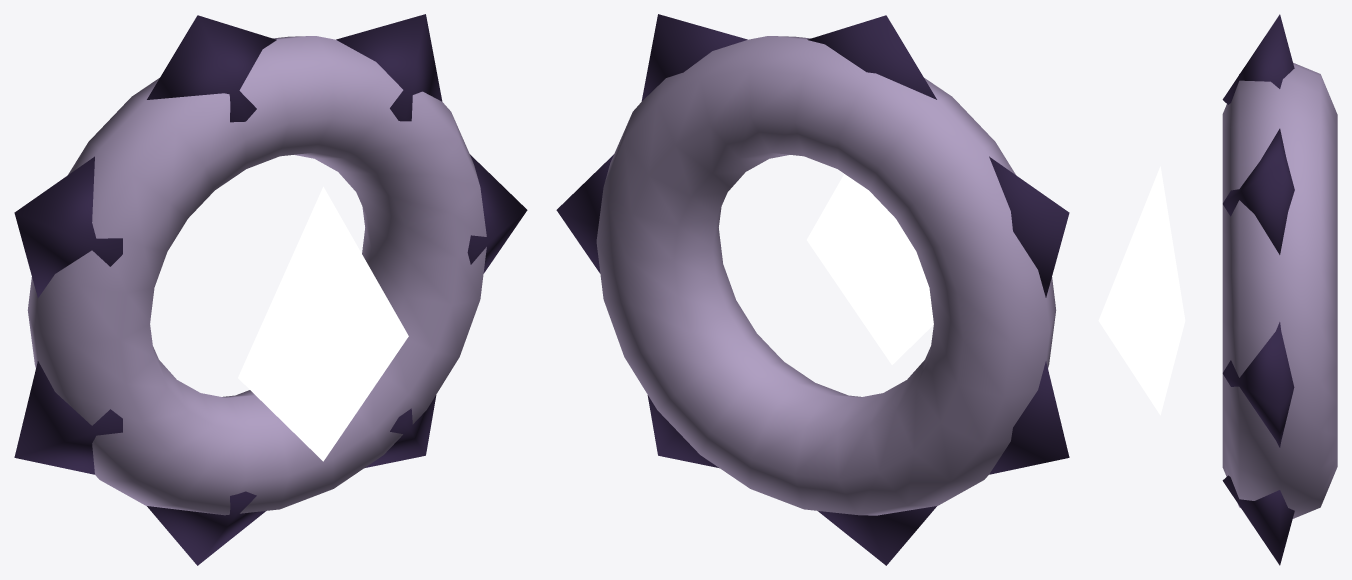
File: boss_wailing_mistress_accessory_1.glb
3 renders of one model, left to right at view 1: azimuth 30°, elevation 25°; view 2: azimuth 150°, elevation 25°; view 3: azimuth 270°, elevation 25°, orthographic. The views are drawn at different scales.
Parts seen in each view (by area): view 1: Boss_wailing_mistress_1, Boss_wailing_mistress_0, Boss_wailing_mistress_2; view 2: Boss_wailing_mistress_1, Boss_wailing_mistress_0, Boss_wailing_mistress_2; view 3: Boss_wailing_mistress_1, Boss_wailing_mistress_0, Boss_wailing_mistress_2.
Boxes of the visible parts, x1=… form: Boss_wailing_mistress_1: x1=27, y1=36, x2=486, y2=515; Boss_wailing_mistress_0: x1=14, y1=14, x2=527, y2=565; Boss_wailing_mistress_2: x1=238, y1=186, x2=408, y2=461; Boss_wailing_mistress_1: x1=596, y1=36, x2=1056, y2=515; Boss_wailing_mistress_0: x1=556, y1=14, x2=1069, y2=565; Boss_wailing_mistress_2: x1=807, y1=174, x2=933, y2=364; Boss_wailing_mistress_1: x1=1222, y1=62, x2=1337, y2=518; Boss_wailing_mistress_0: x1=1222, y1=14, x2=1294, y2=565; Boss_wailing_mistress_2: x1=1098, y1=166, x2=1185, y2=415.
Size of the model in its own units: 0.1217 by 0.1248 by 0.054.
